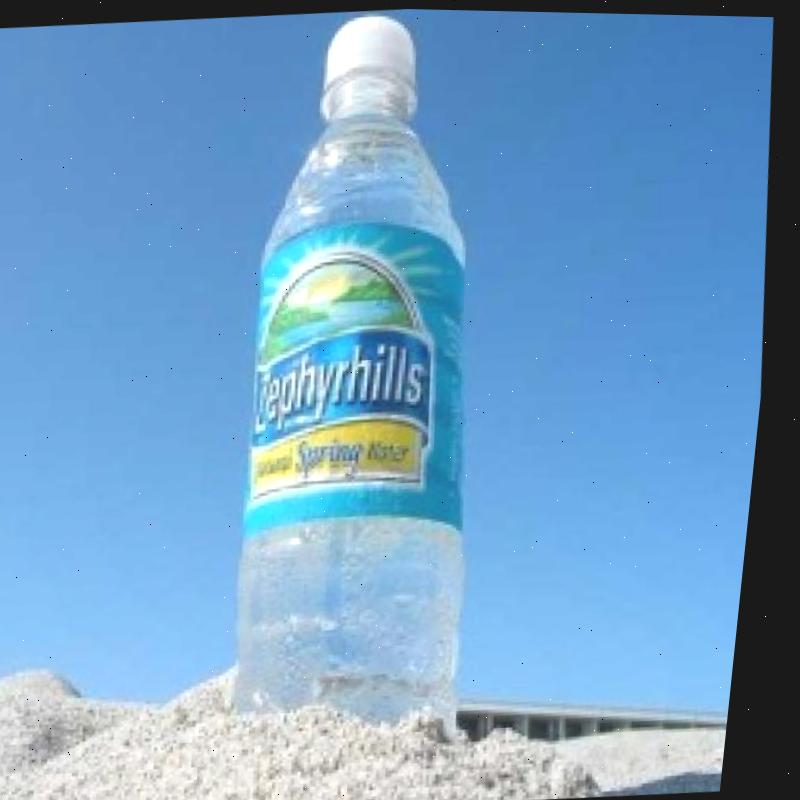botella: (211, 5, 540, 749)
